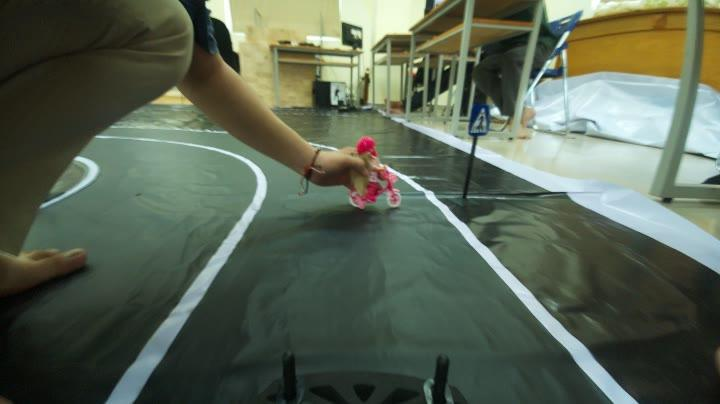crosswalk: (463, 100, 496, 138)
pedestrian: (342, 136, 402, 204)
